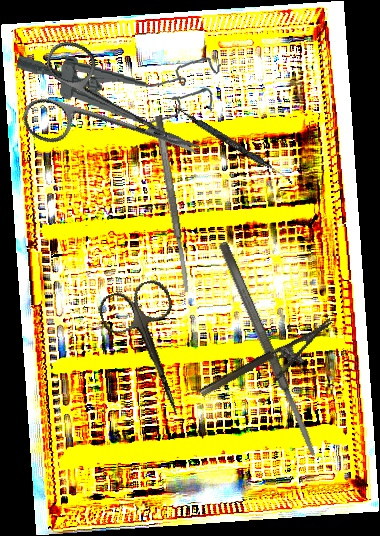Iris Scissors: (15, 34, 220, 202), (94, 275, 210, 429)
Needle Holder: (198, 318, 344, 415)
Spatula Surgical: (216, 240, 320, 459), (170, 104, 296, 184), (153, 114, 192, 294)
Speculum: (13, 40, 222, 130)
